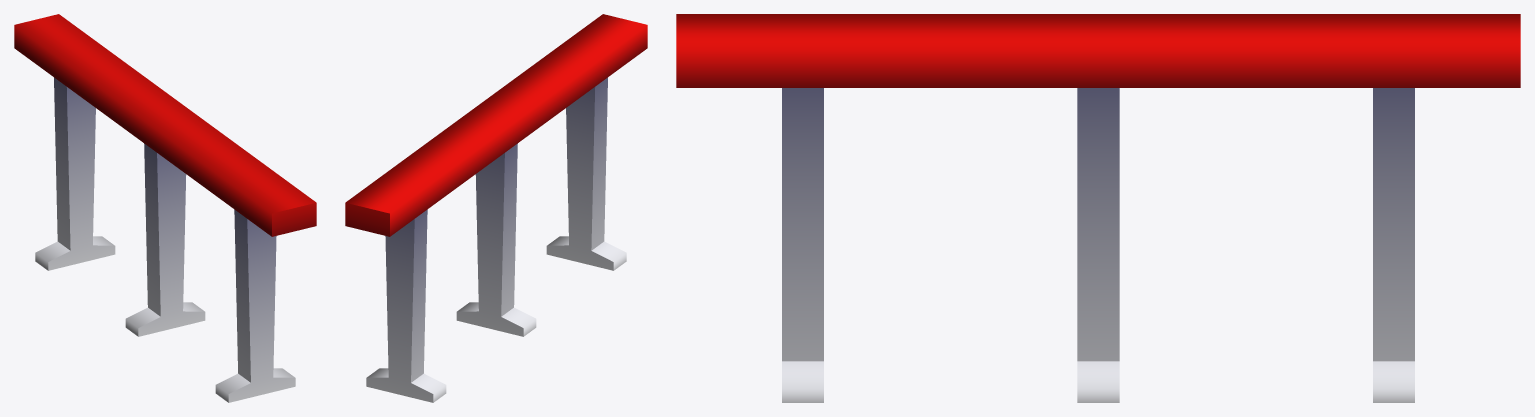
The model's file is rail-high.fbx.
3 views of the same model, side by side, from view 1: azimuth 30°, elevation 25°; view 2: azimuth 150°, elevation 25°; view 3: azimuth 270°, elevation 25° (orthographic). The views are drawn at different scales.
Visible parts, largest first — view 1: rail-high; view 2: rail-high; view 3: rail-high.
Boxes of the visible parts, box(x1,y1,x2,y2) form: rail-high: box(14, 14, 316, 402); rail-high: box(345, 14, 647, 402); rail-high: box(676, 14, 1520, 402).
Bounding box in the file's own units: 1.5 × 4.5 × 10.
